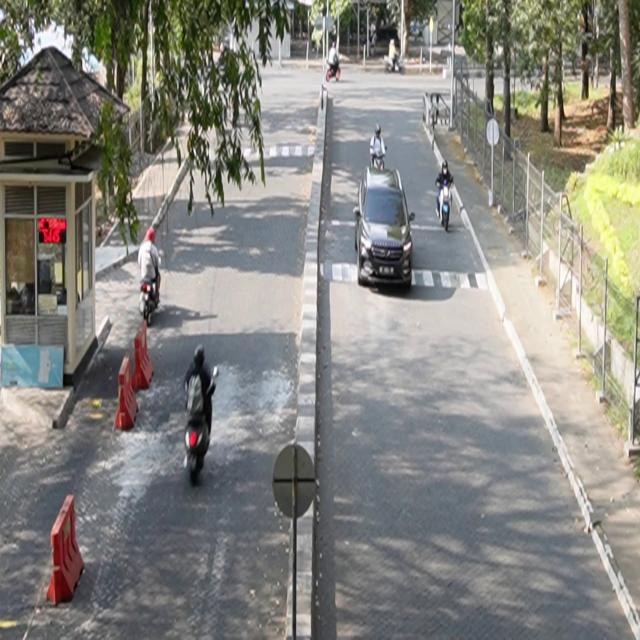car: (354, 167, 416, 290)
